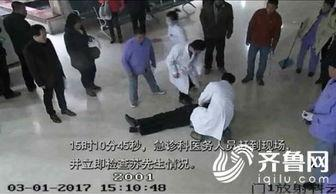Fall-Detected: (121, 96, 214, 135)
